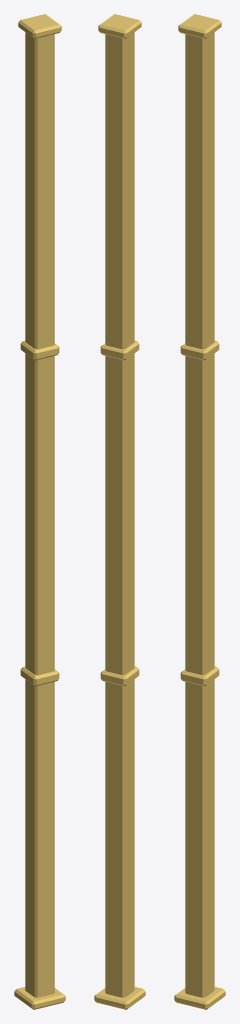
File: SM_Post_0p25x11p7x0p25.glb
3 views of the same model, side by side, from view 1: azimuth 30°, elevation 25°; view 2: azimuth 150°, elevation 25°; view 3: azimuth 330°, elevation 25° (orthographic).
Visible parts, largest first — view 1: SM_Post_0p25x11p7x0p25; view 2: SM_Post_0p25x11p7x0p25; view 3: SM_Post_0p25x11p7x0p25.
Boxes of the visible parts, bbox=[...] form: SM_Post_0p25x11p7x0p25: bbox=[14, 14, 65, 1009]; SM_Post_0p25x11p7x0p25: bbox=[94, 14, 145, 1009]; SM_Post_0p25x11p7x0p25: bbox=[174, 14, 225, 1009].
Bounding box in the file's own units: 0.425 × 11.7 × 0.425.
